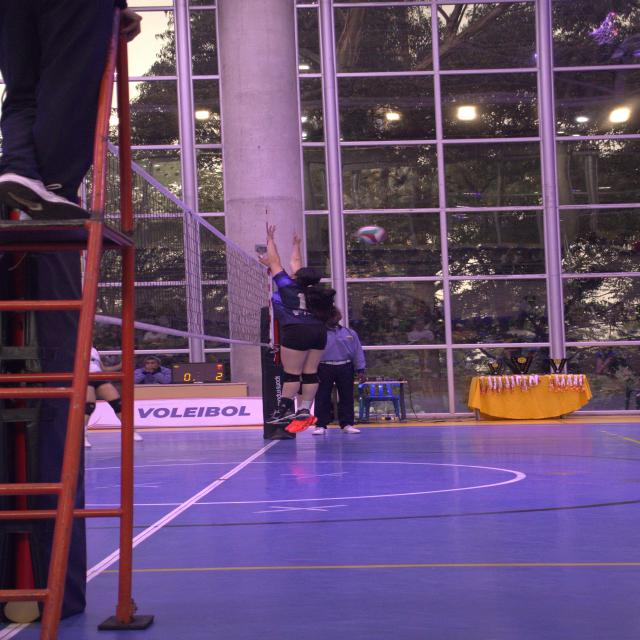volleyball: (358, 225, 386, 244)
